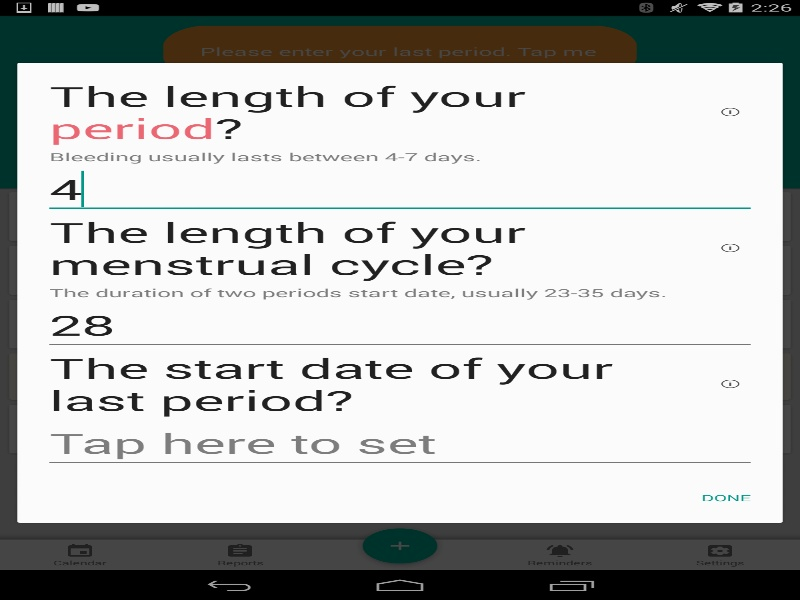Input: (49, 170, 750, 208), (49, 306, 750, 344), (49, 424, 750, 462)
